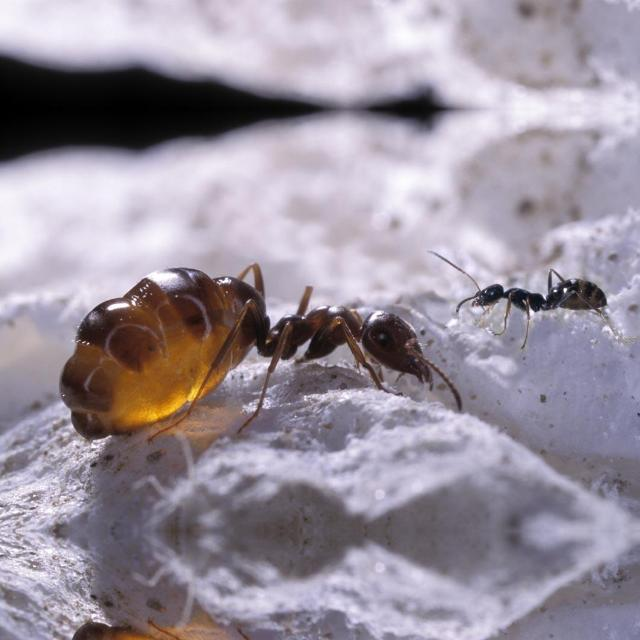Formica: (52, 259, 450, 446), (422, 246, 620, 344)
